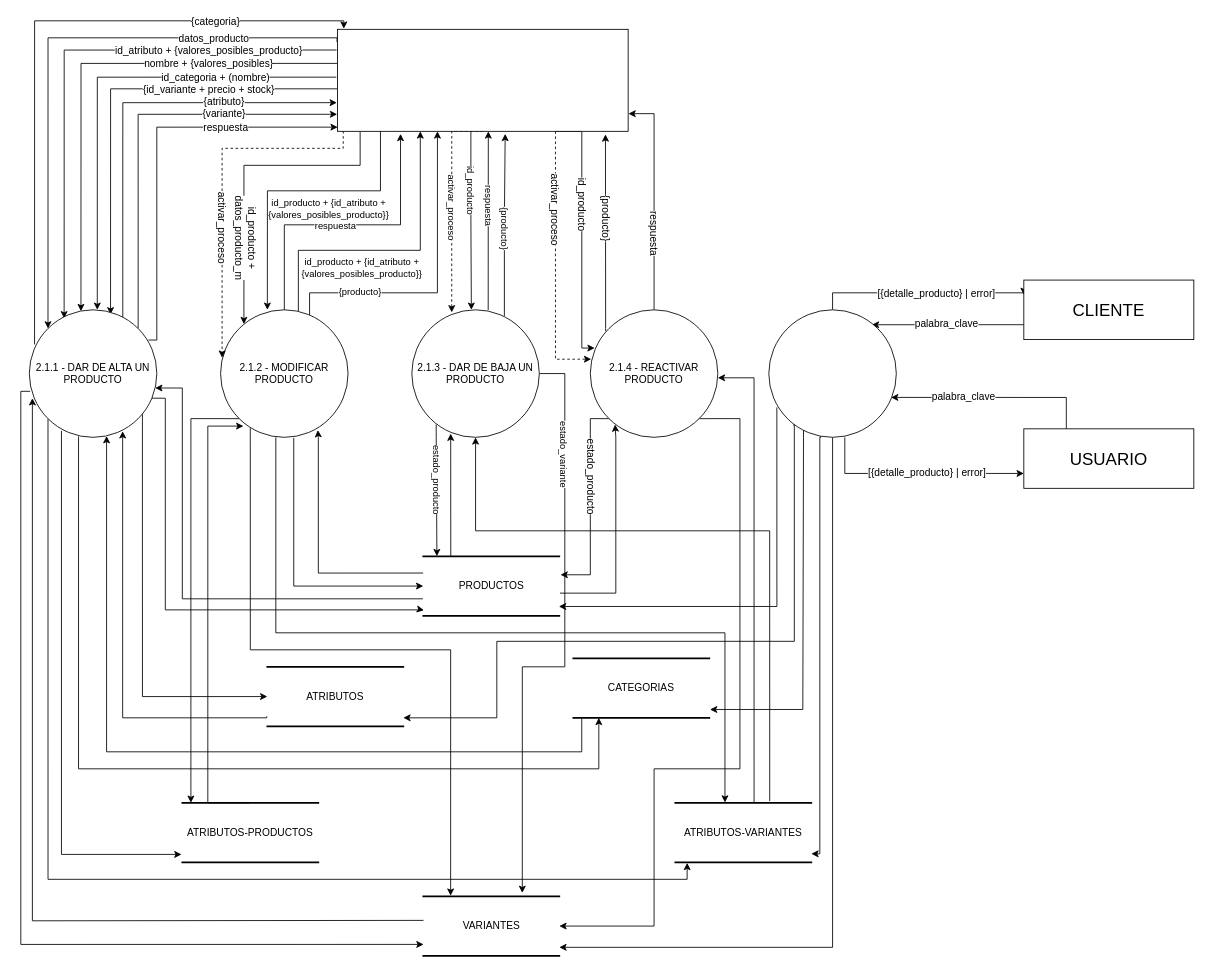
The diagram is 1209 pixels wide and 972 high, and some of its shapes have lost their labels. Each missing label, with the box of its shape:
2.1.5 - MOSTRAR PRODUCTOS: (768, 309, 896, 437)
ADMINISTRADOR: (337, 28, 628, 131)
